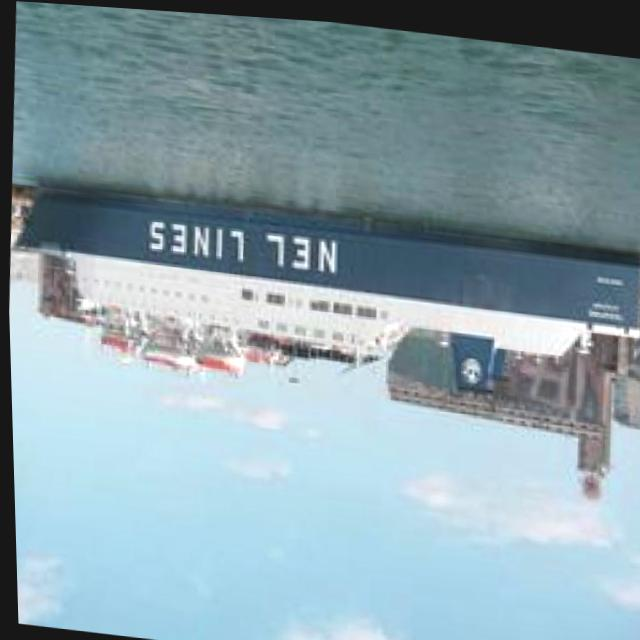ship2: (9, 183, 640, 394)
